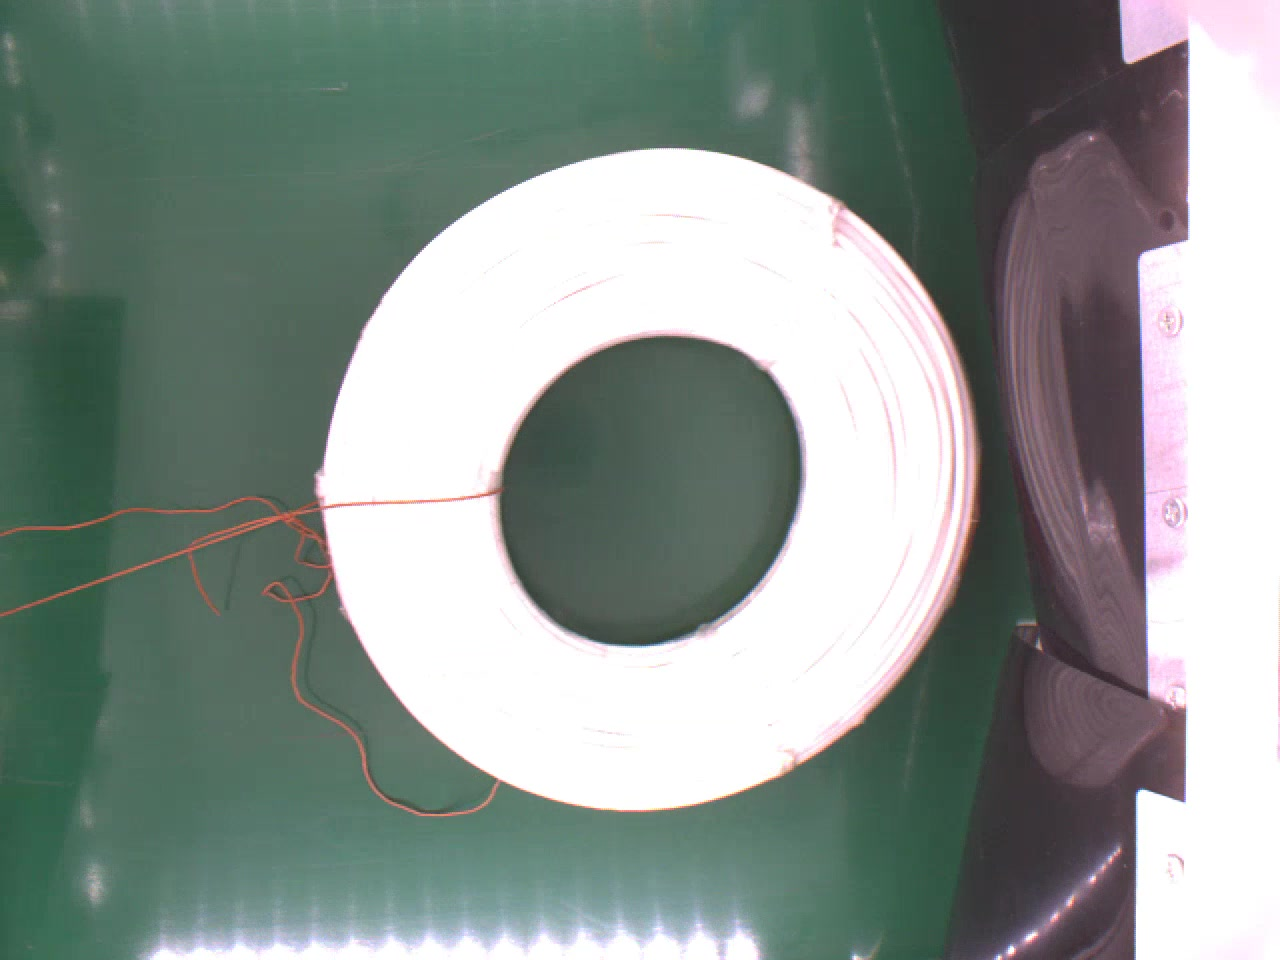white: (309, 141, 977, 822)
